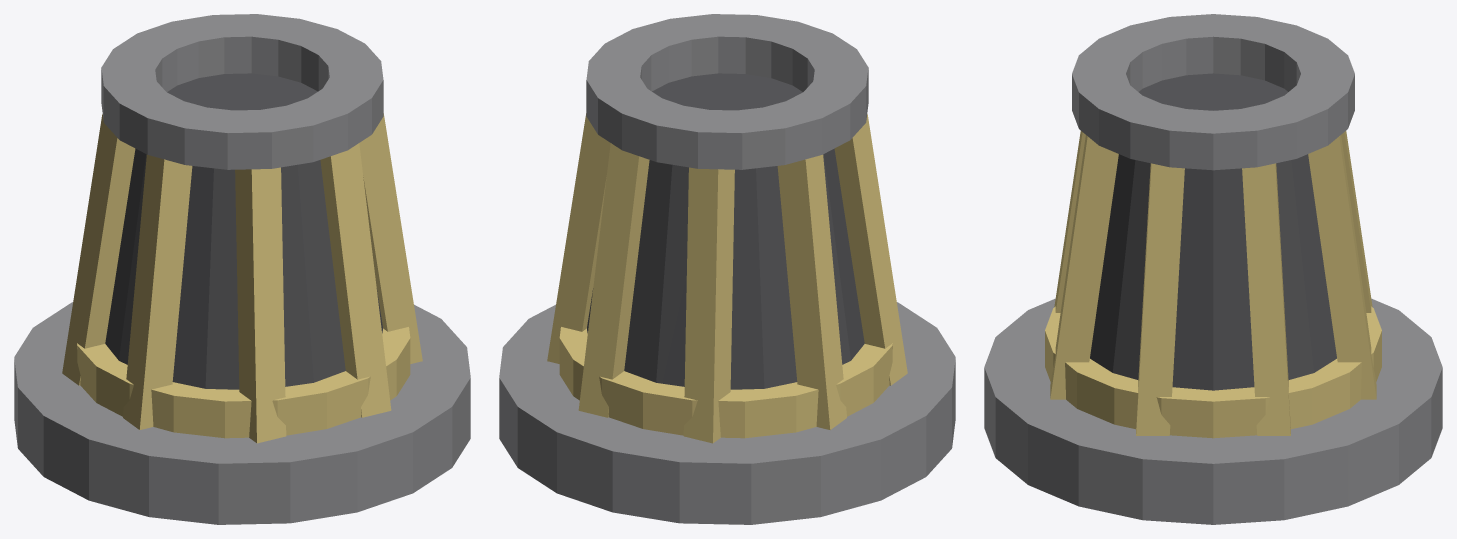
Rendered from vge_sealant_popper.obj.
3 renders of one model, left to right at view 1: azimuth 30°, elevation 25°; view 2: azimuth 150°, elevation 25°; view 3: azimuth 270°, elevation 25°, orthographic.
Parts seen in each view (by area): view 1: vge_sealant_popper_0, vge_sealant_popper_11, vge_sealant_popper_1, vge_sealant_popper_10, vge_sealant_popper_7, vge_sealant_popper_6, vge_sealant_popper_8, vge_sealant_popper_5, vge_sealant_popper_9; view 2: vge_sealant_popper_0, vge_sealant_popper_11, vge_sealant_popper_1, vge_sealant_popper_10, vge_sealant_popper_4, vge_sealant_popper_5, vge_sealant_popper_3, vge_sealant_popper_6, vge_sealant_popper_2; view 3: vge_sealant_popper_0, vge_sealant_popper_1, vge_sealant_popper_11, vge_sealant_popper_10, vge_sealant_popper_2, vge_sealant_popper_9, vge_sealant_popper_3, vge_sealant_popper_8, vge_sealant_popper_4, vge_sealant_popper_7.
Boxes of the visible parts, x1,y1,x2,y2 form: vge_sealant_popper_0: [14, 302, 470, 524]; vge_sealant_popper_11: [101, 14, 383, 169]; vge_sealant_popper_1: [105, 73, 382, 389]; vge_sealant_popper_10: [77, 327, 410, 438]; vge_sealant_popper_7: [235, 167, 286, 443]; vge_sealant_popper_6: [123, 154, 192, 429]; vge_sealant_popper_8: [320, 143, 391, 417]; vge_sealant_popper_5: [62, 114, 135, 385]; vge_sealant_popper_9: [359, 113, 422, 363]; vge_sealant_popper_0: [499, 302, 955, 524]; vge_sealant_popper_11: [586, 14, 868, 169]; vge_sealant_popper_1: [587, 73, 864, 389]; vge_sealant_popper_10: [559, 327, 892, 438]; vge_sealant_popper_4: [683, 167, 734, 443]; vge_sealant_popper_5: [777, 154, 846, 429]; vge_sealant_popper_3: [578, 143, 649, 417]; vge_sealant_popper_6: [834, 114, 907, 385]; vge_sealant_popper_2: [547, 113, 610, 363]; vge_sealant_popper_0: [984, 298, 1442, 524]; vge_sealant_popper_1: [1090, 73, 1336, 390]; vge_sealant_popper_11: [1072, 14, 1354, 170]; vge_sealant_popper_10: [1045, 306, 1381, 438]; vge_sealant_popper_2: [1242, 163, 1290, 435]; vge_sealant_popper_9: [1136, 163, 1184, 435]; vge_sealant_popper_3: [1308, 135, 1376, 399]; vge_sealant_popper_8: [1050, 135, 1118, 399]; vge_sealant_popper_4: [1341, 131, 1372, 312]; vge_sealant_popper_7: [1054, 131, 1085, 312].
Size of the model in its own units: 0.68 by 0.58 by 0.68.
